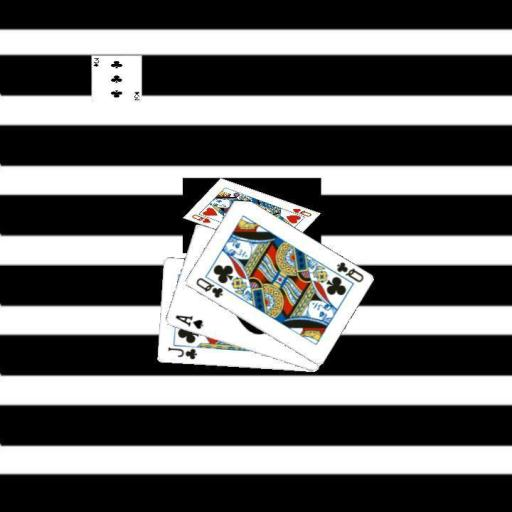card-corner: (193, 274, 224, 300), (333, 259, 365, 284), (172, 312, 204, 331), (164, 344, 198, 361)
